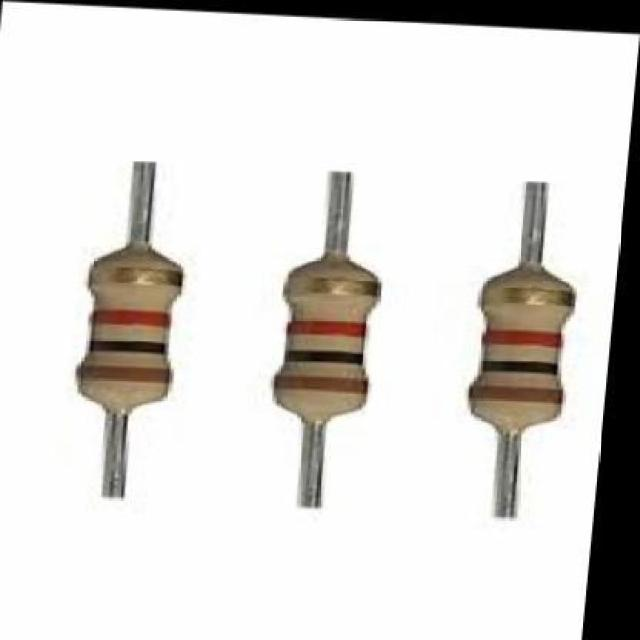Resistor: (274, 171, 380, 507), (470, 181, 575, 517), (78, 161, 182, 497)
